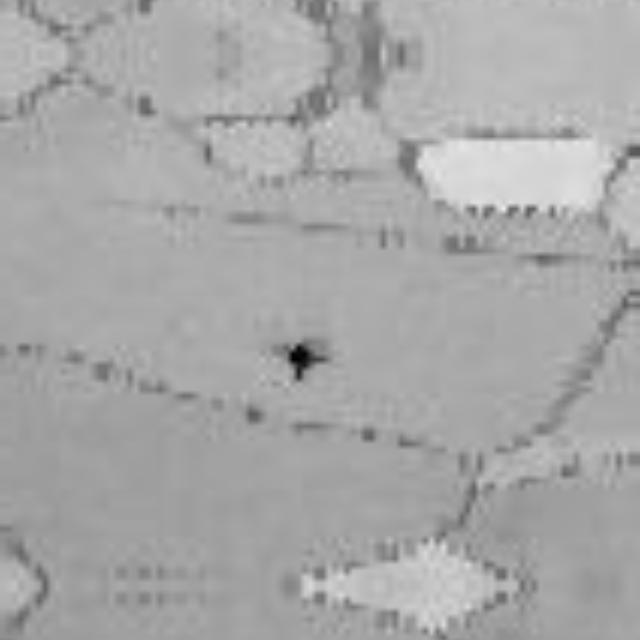good_void: (267, 336, 333, 385)
